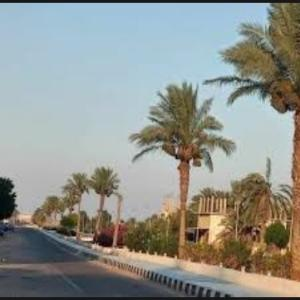palm tree: (203, 2, 299, 283), (128, 80, 235, 258), (87, 166, 119, 238), (64, 172, 91, 238)
